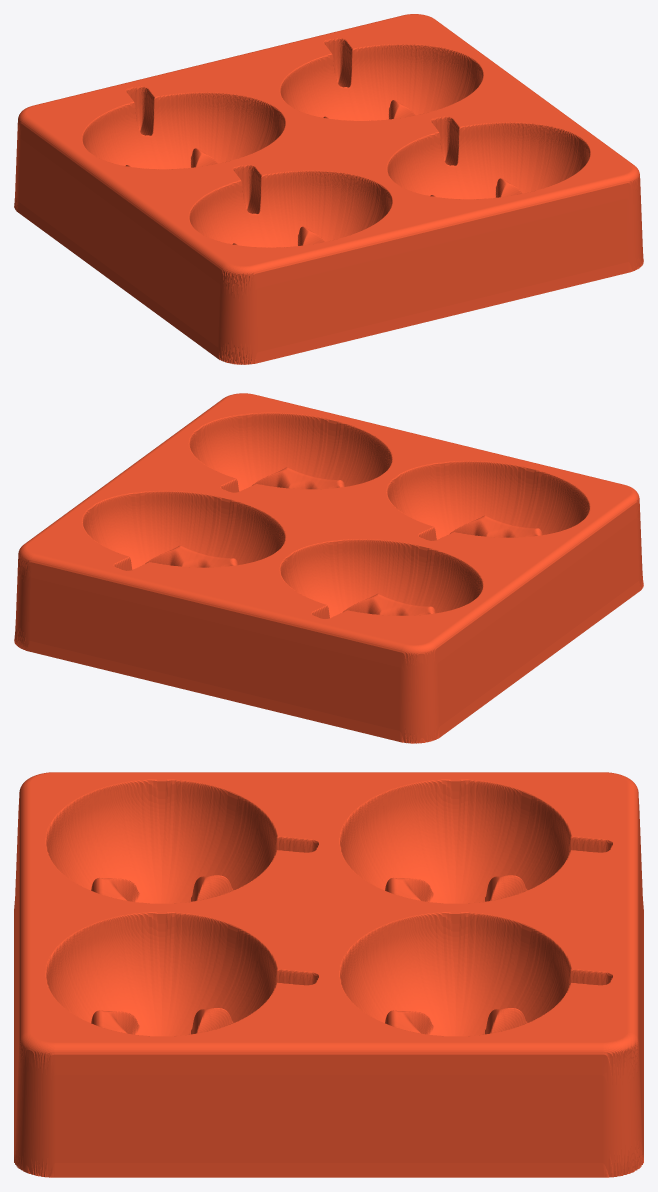
The model's file is mold.glb.
The picture shows the model from 3 angles, top to bottom: view 1: azimuth 30°, elevation 25°; view 2: azimuth 150°, elevation 25°; view 3: azimuth 270°, elevation 25°; orthographic projection. The views are drawn at different scales.
Parts seen in each view (by area): view 1: geometry_0; view 2: geometry_0; view 3: geometry_0.
Boxes of the visible parts, <box> form: geometry_0: <box>14,14,643,364</box>; geometry_0: <box>14,393,643,743</box>; geometry_0: <box>14,772,643,1177</box>.
Size of the model in its own units: 0.1466 by 0.031 by 0.1378.
